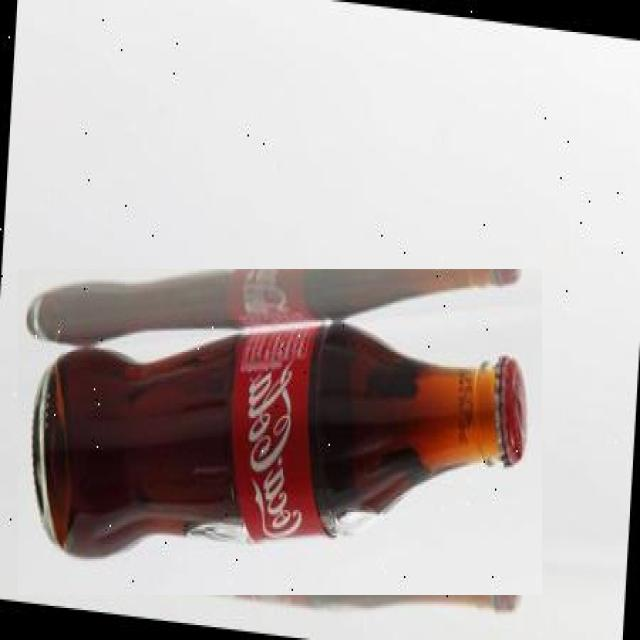coca-cola: (18, 269, 542, 595)
